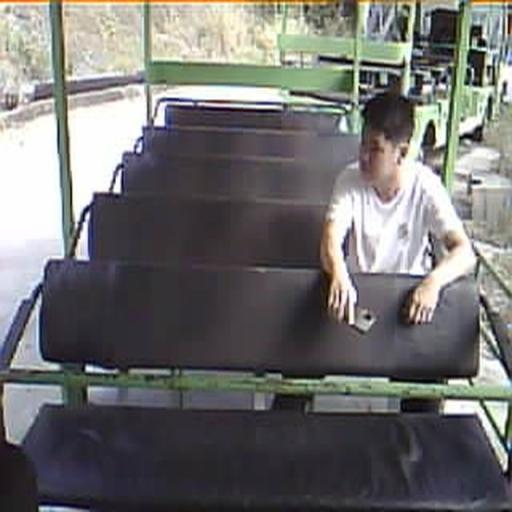persona: (318, 88, 476, 328)
